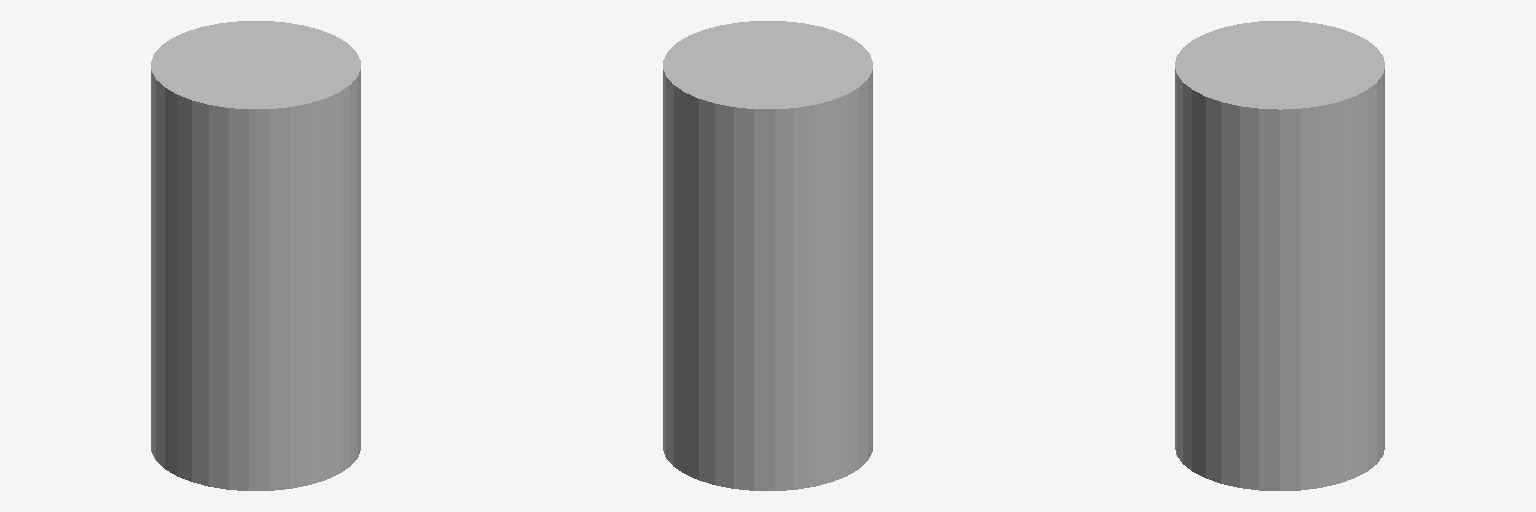
Rendered from block-cylinder-2x1x1.obj.
3 views of the same model, side by side, from view 1: azimuth 30°, elevation 25°; view 2: azimuth 150°, elevation 25°; view 3: azimuth 270°, elevation 25° (orthographic).
Size of the model in its own units: 1 by 2 by 1.